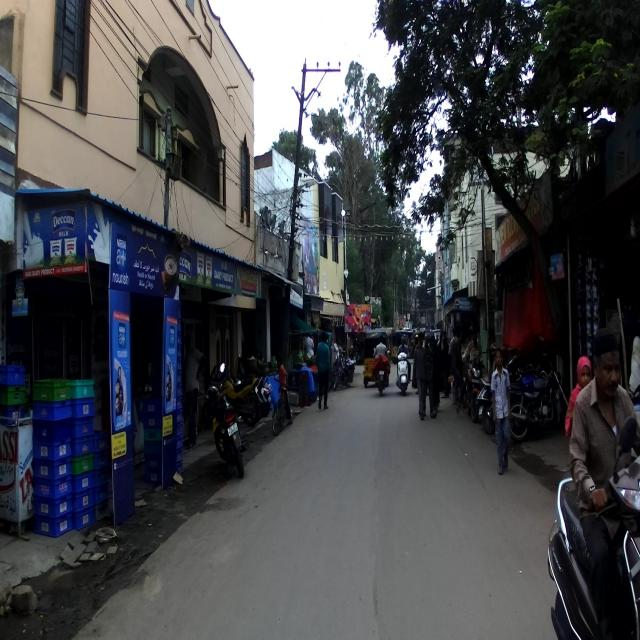motorcycle: (504, 347, 573, 441), (202, 361, 250, 478), (208, 360, 264, 428), (502, 354, 547, 418), (224, 361, 267, 424), (459, 354, 485, 422)
scooter: (545, 413, 640, 640), (476, 351, 524, 435), (235, 352, 274, 418)
